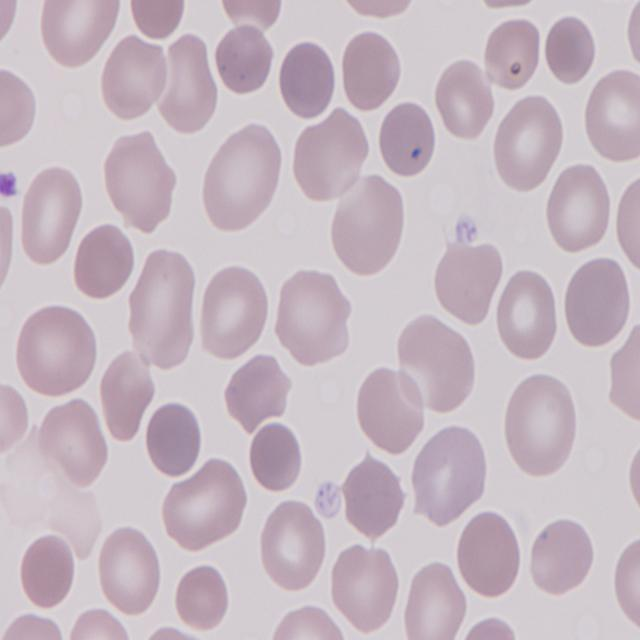RBC: (276, 53, 354, 178), (200, 121, 285, 235), (124, 245, 198, 372), (408, 422, 490, 530), (499, 372, 580, 479), (161, 461, 251, 555), (396, 310, 478, 413), (13, 306, 101, 401), (288, 107, 372, 204), (100, 130, 176, 237), (328, 176, 408, 277), (492, 92, 568, 196), (272, 268, 350, 368), (193, 262, 270, 362), (17, 162, 86, 266), (257, 498, 327, 598), (328, 538, 402, 632), (354, 361, 427, 456), (540, 164, 614, 257), (560, 257, 634, 350), (39, 399, 111, 494), (98, 32, 169, 128), (453, 506, 525, 600), (495, 266, 564, 363), (93, 526, 163, 620), (433, 239, 506, 326), (160, 31, 220, 136), (578, 66, 640, 165), (39, 0, 124, 72), (524, 512, 597, 594), (342, 455, 410, 543), (338, 26, 406, 112), (99, 353, 155, 453), (480, 14, 546, 97), (73, 218, 139, 300), (401, 560, 468, 640), (432, 59, 494, 145), (226, 350, 290, 428), (18, 532, 78, 614), (213, 22, 277, 98), (176, 560, 232, 630), (0, 64, 36, 156), (607, 324, 640, 424), (610, 535, 640, 633), (613, 170, 640, 278), (268, 606, 344, 640), (128, 0, 185, 38), (69, 609, 130, 640), (1, 612, 66, 640)
Spherocyte: (142, 398, 207, 480), (276, 38, 340, 121), (373, 99, 438, 179), (248, 416, 306, 494), (544, 11, 602, 88)
